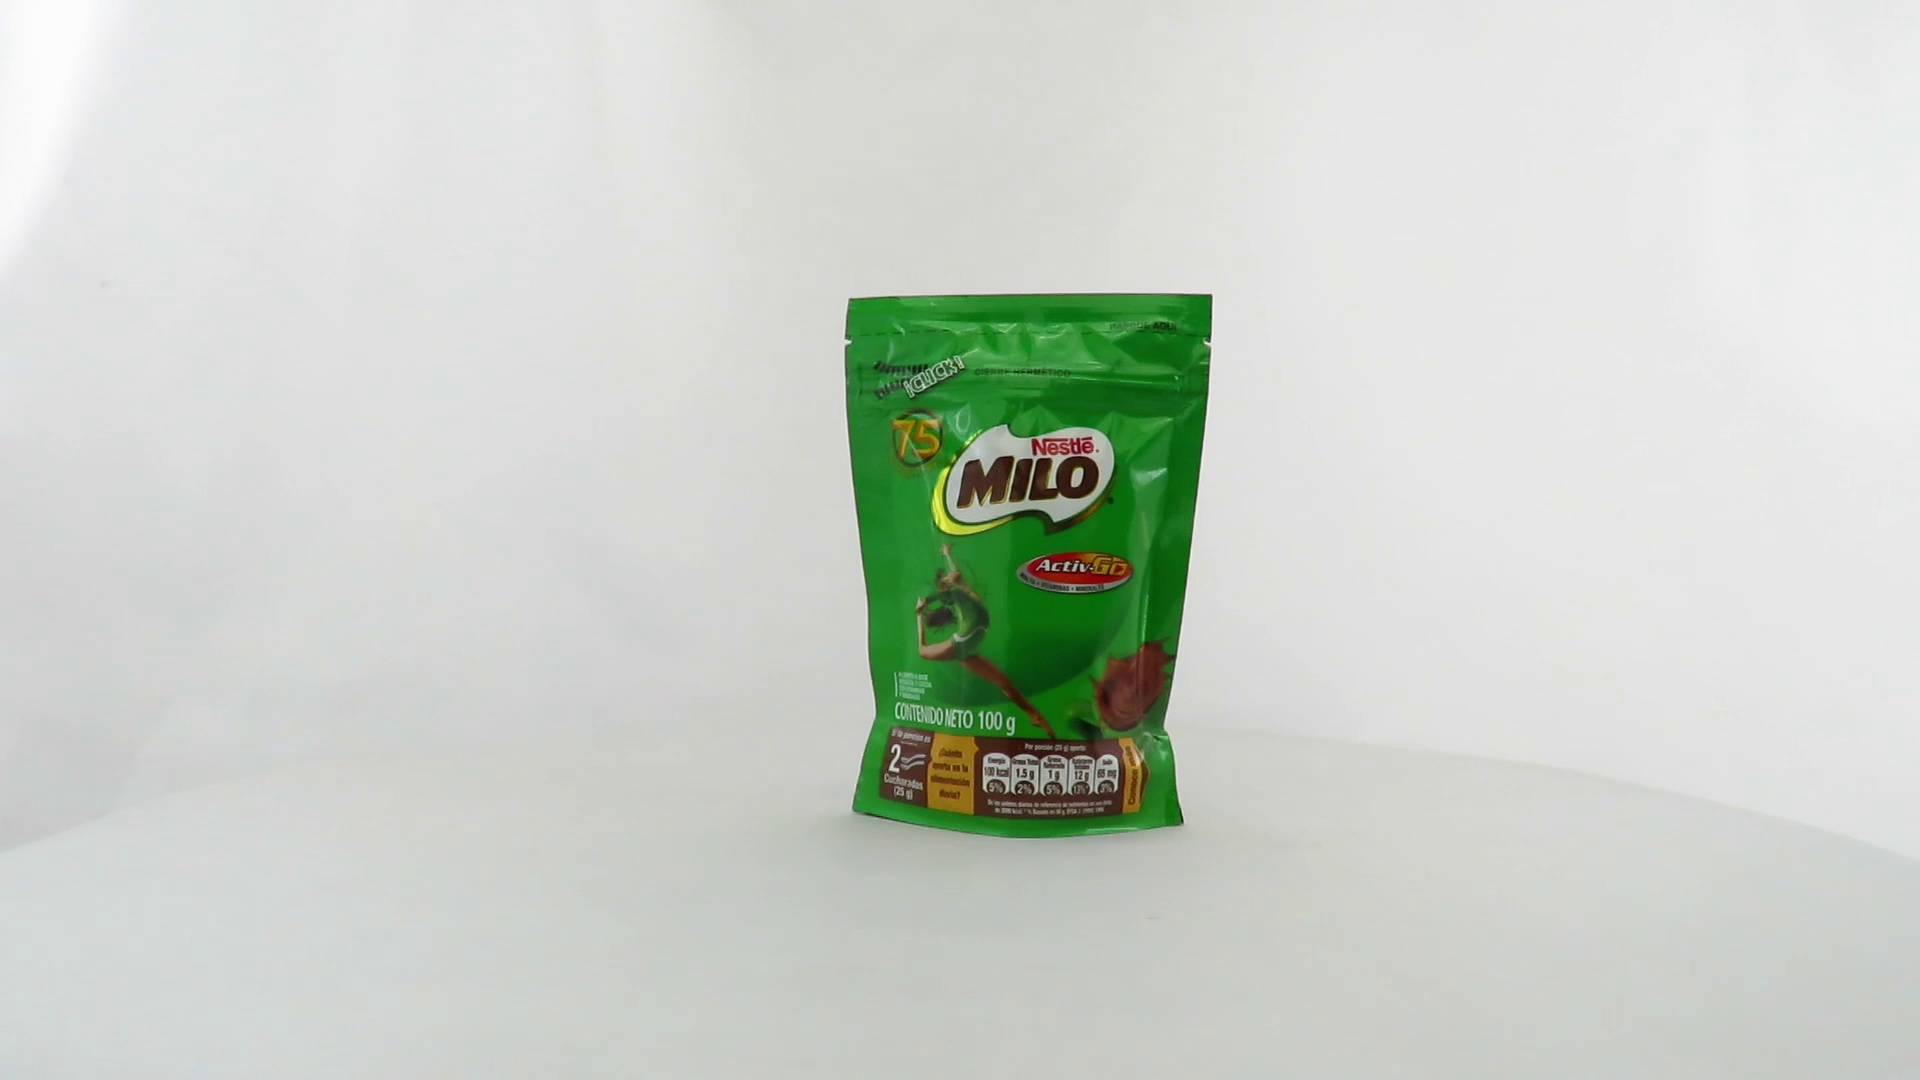COL0170203DYP10000: (839, 287, 1218, 845)
